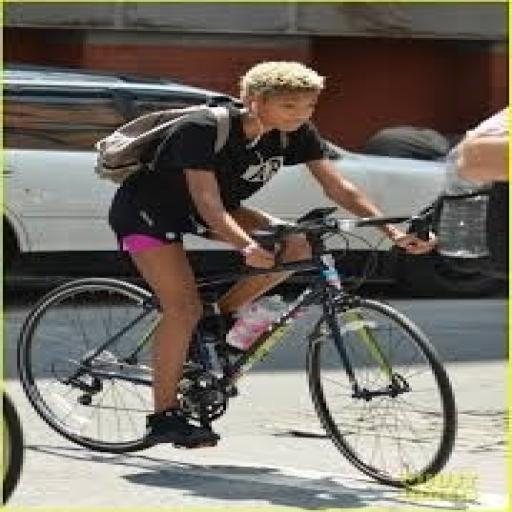cycling: (98, 60, 440, 448)
